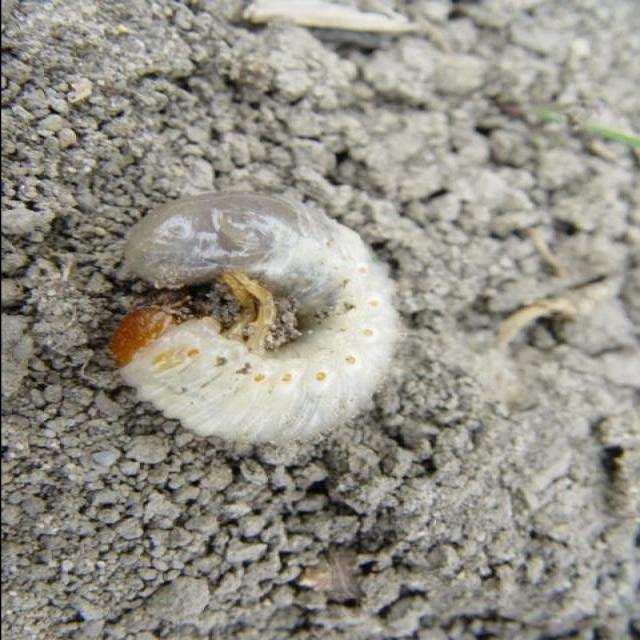grub: (105, 194, 405, 465)
